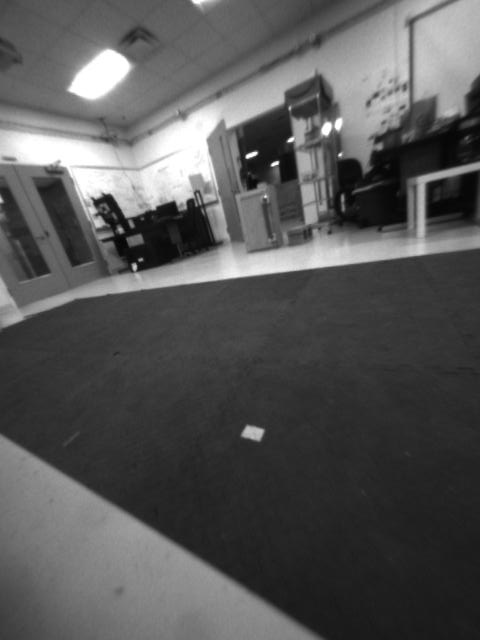coffee_pot: (456, 114, 480, 163)
